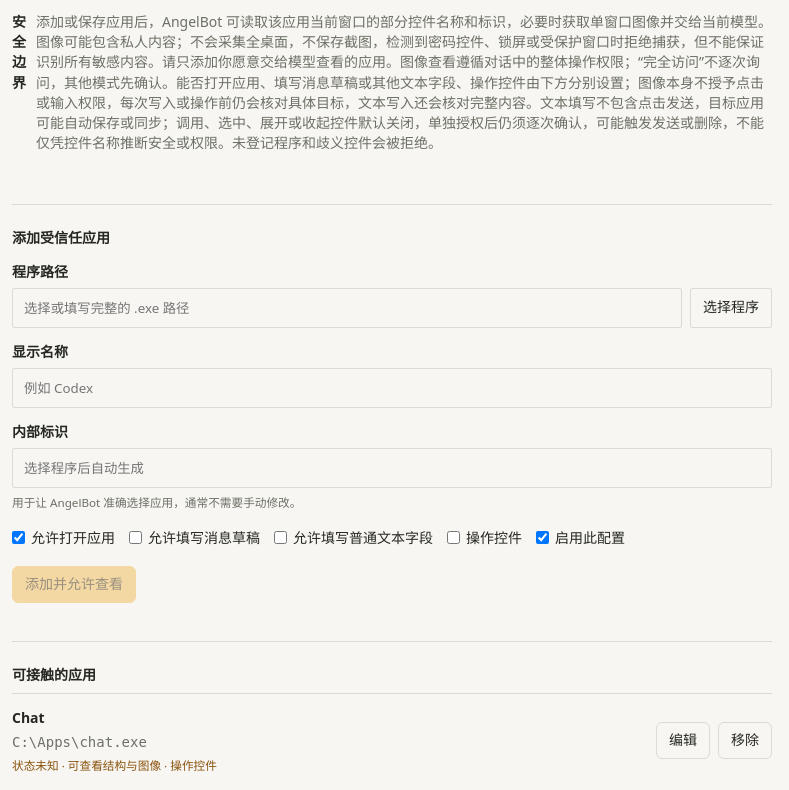
Test case: DesktopControlSettings › loads an existing explicit interaction grant and labels it distinctly from observation
(page scrolled)
Click the button "编辑": [683, 741] box [656,722,710,759]
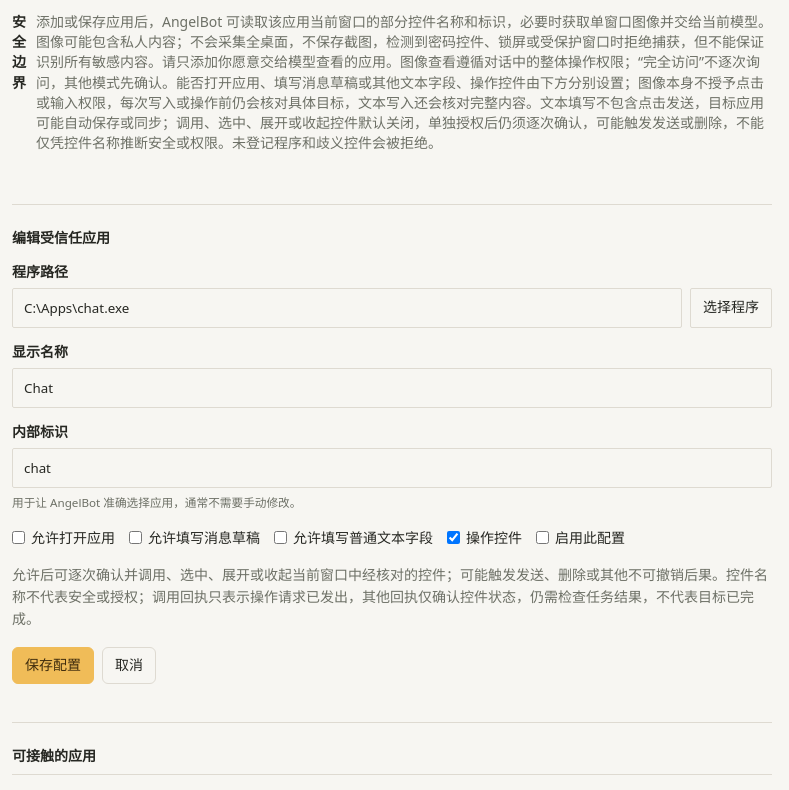
Expected: the checkbox labelled "允许填写普通文本字段" is not checked, [274,531,287,544]
Now the checkbox labelled "操作控件" is checked, box [447,531,460,544]
